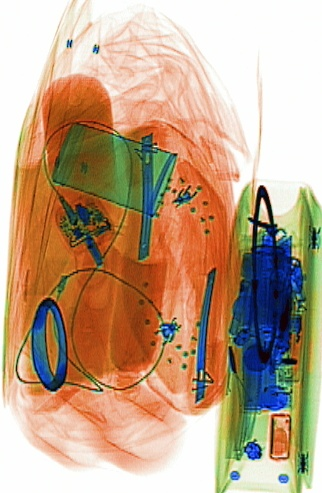powerbank: (236, 241, 297, 414)
